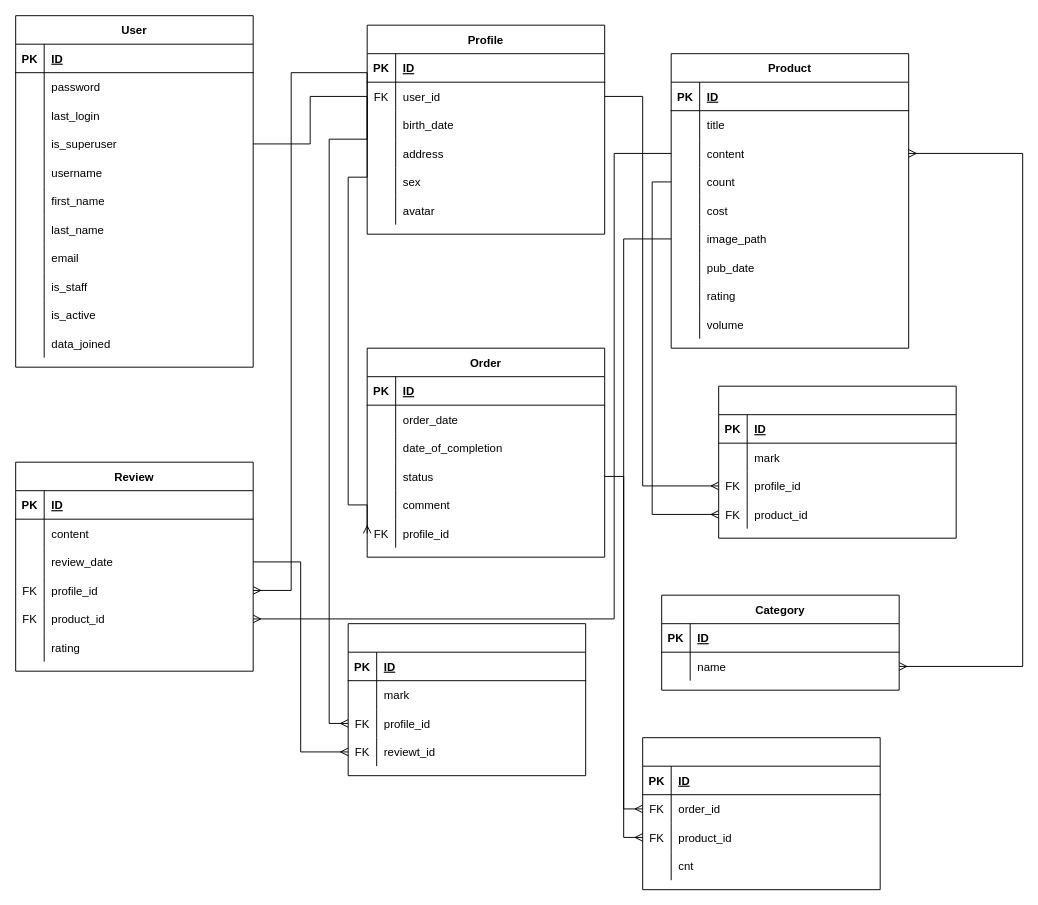
Some shapes in this 1038 by 905 pixel diagram are drawn without their labels. The box of each missing label's shape, as (x1, y1, x2, y2) in pixels:
Likeproduct: (718, 385, 956, 538)
Likereview: (347, 623, 586, 776)
OrdersProducts: (642, 737, 880, 890)
